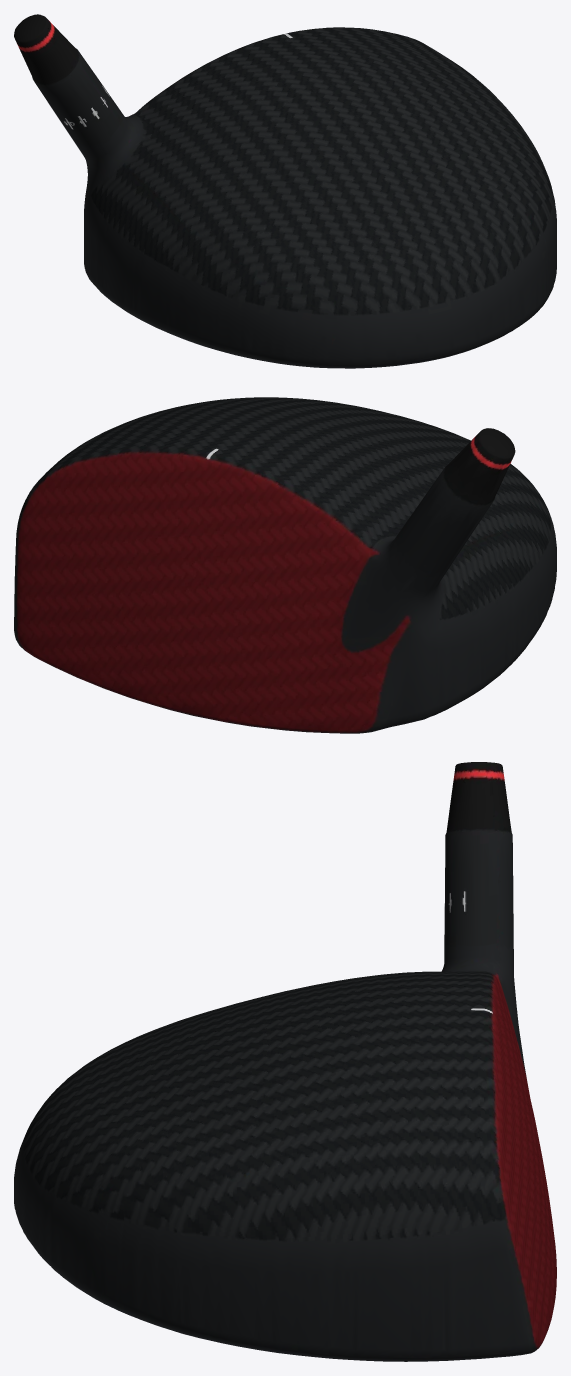
The picture shows the model from 3 angles, top to bottom: view 1: azimuth 30°, elevation 25°; view 2: azimuth 150°, elevation 25°; view 3: azimuth 270°, elevation 25°; orthographic projection. The views are drawn at different scales.
Visible parts, largest first — view 1: head; view 2: head; view 3: head.
Boxes of the visible parts, x1,y1,x2,y2 form: head: (14, 14, 556, 368); head: (14, 397, 556, 733); head: (14, 762, 556, 1361).
Size of the model in its own units: 0.1341 by 0.0836 by 0.1114.
Materials: 1 (1 with a texture image).
